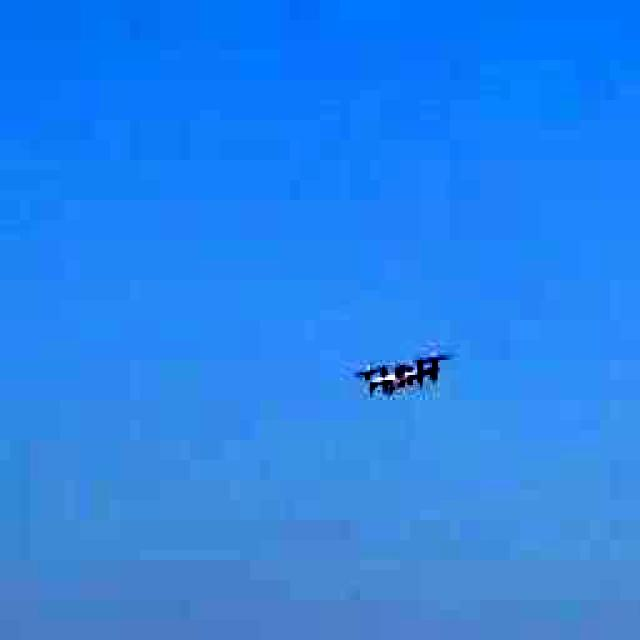bird: (348, 331, 458, 406)
